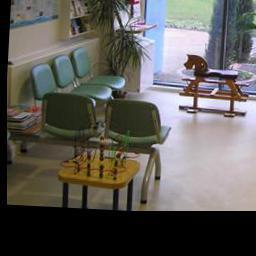Bote de Basura: (132, 36, 156, 96)
Matera: (87, 0, 152, 98)
Otro Obstaculo: (180, 54, 250, 122)
